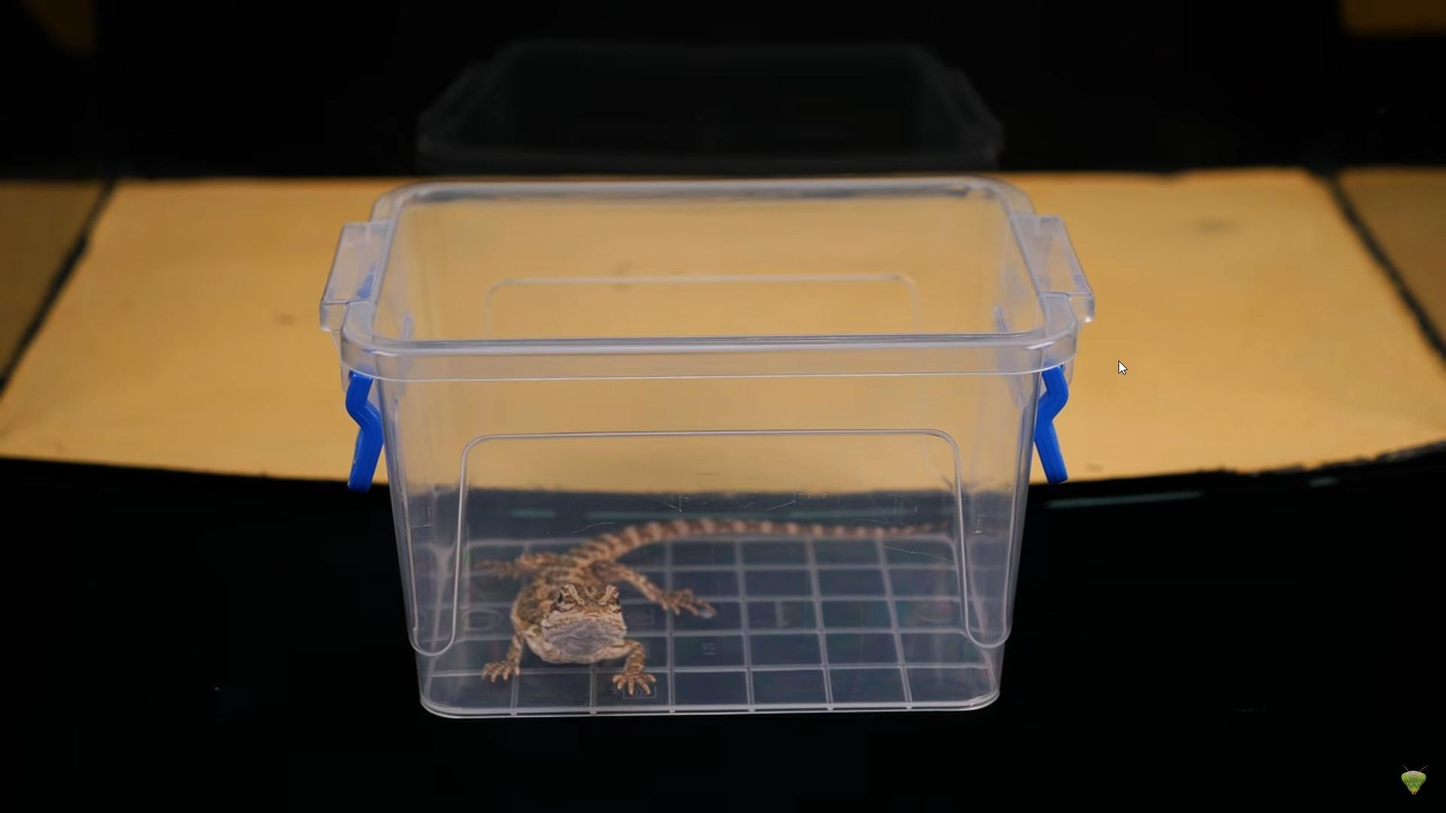lizard: (467, 515, 953, 693)
